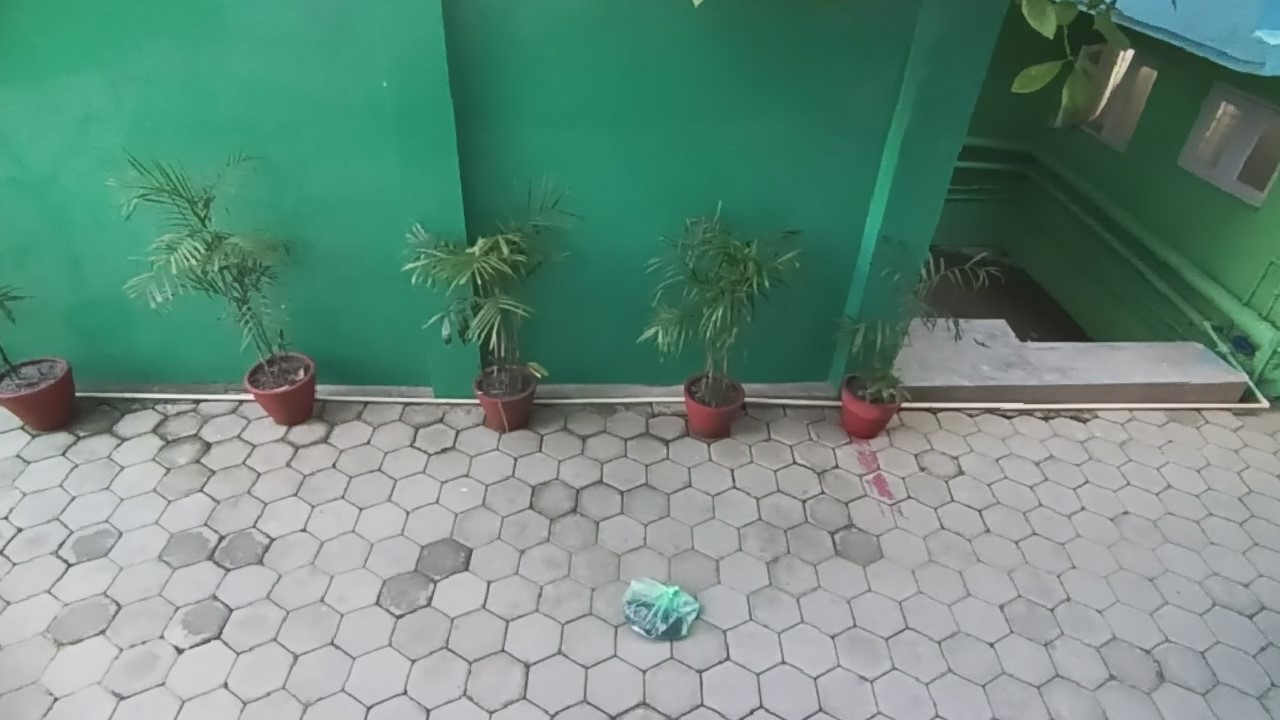thrownwaste: (589, 436, 844, 658)
